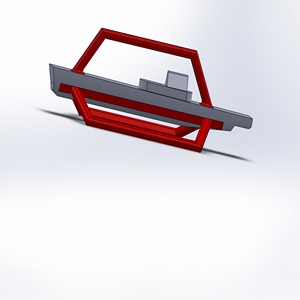submarine: (41, 21, 257, 183)
